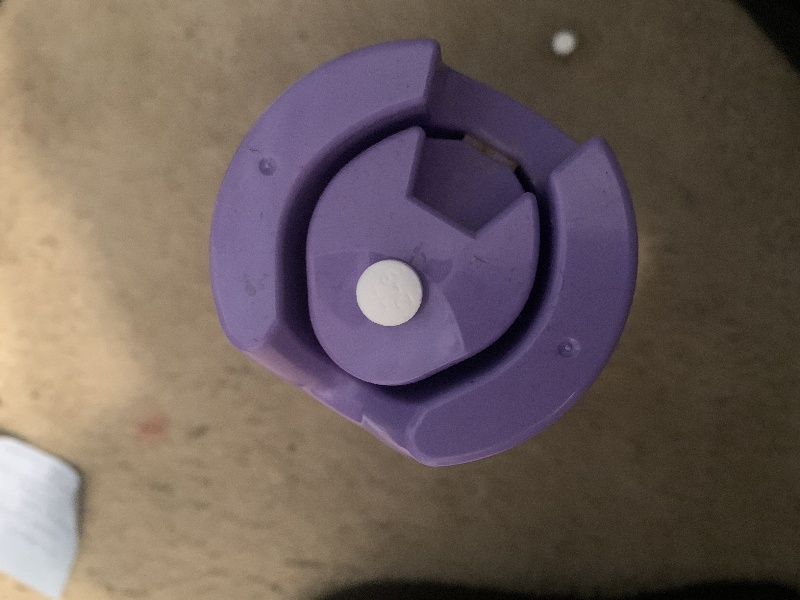Aspirin: (352, 255, 428, 332), (544, 22, 582, 62)
